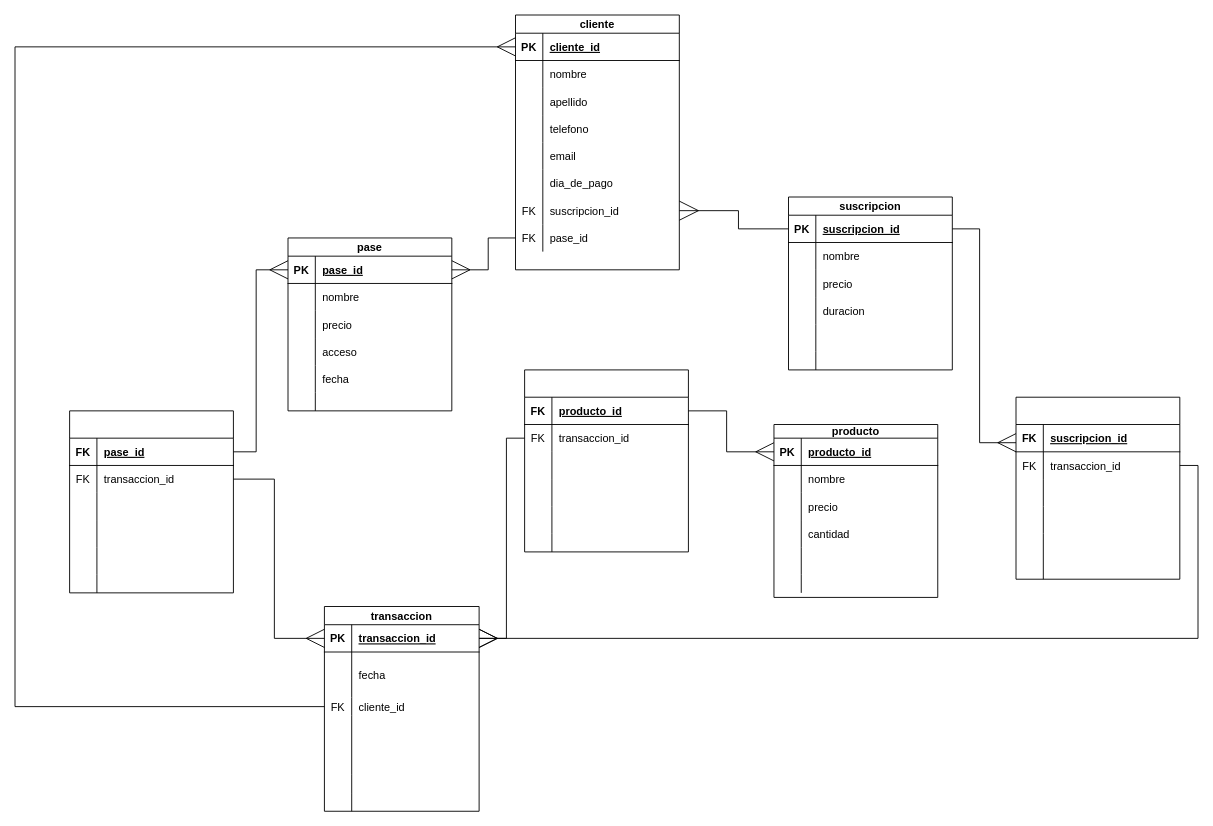
Some shapes in this 1213 by 826 pixel diagram are drawn without their labels. Each missing label, with the box of its shape:
transaccion_pase: (69, 410, 233, 593)
transaccion_producto: (524, 369, 688, 552)
transaccion_suscripcion: (1015, 396, 1180, 579)
